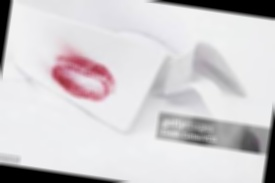lipstick: (44, 43, 117, 109)
